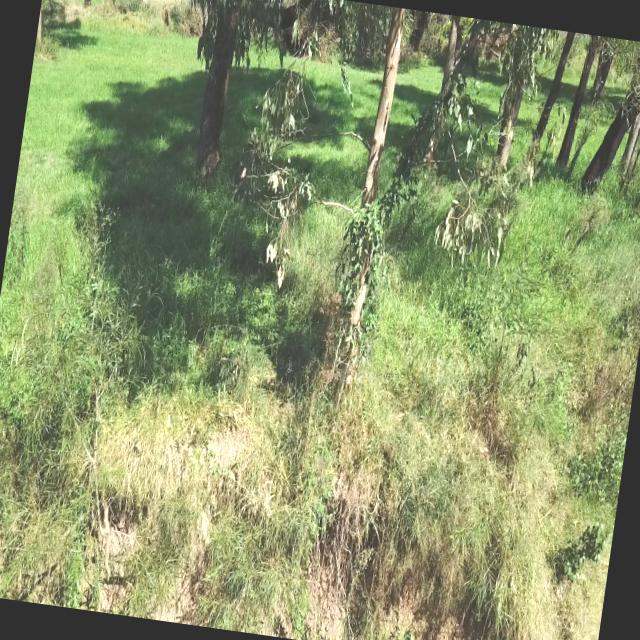Mysore-Thorn-Weed: (205, 266, 289, 394)
